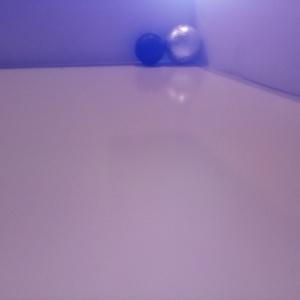alive_ball: (163, 22, 201, 63)
dead_ball: (134, 32, 165, 65)
